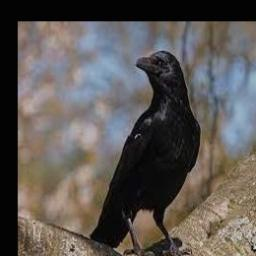Crow: (90, 51, 201, 256)
